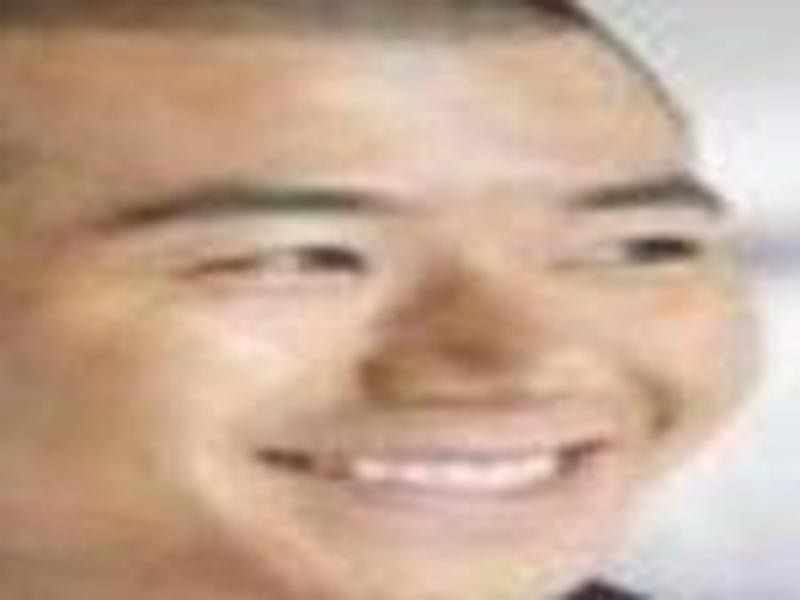without_mask: (19, 19, 772, 600)
